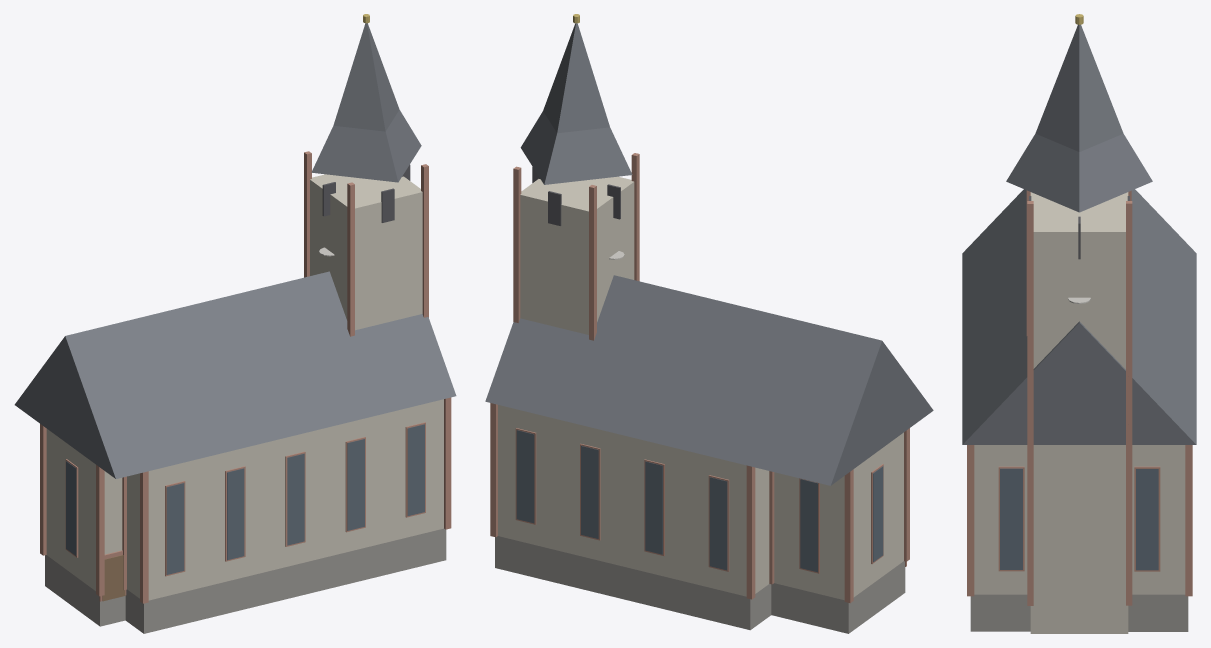
File: landmark-church-277927901.glb
3 views of the same model, side by side, from view 1: azimuth 30°, elevation 25°; view 2: azimuth 150°, elevation 25°; view 3: azimuth 270°, elevation 25° (orthographic). The views are drawn at different scales.
Parts seen in each view (by area): view 1: building; view 2: building; view 3: building.
Part boxes in pixels (x1=…): building: x1=14, y1=14, x2=456, y2=633; building: x1=485, y1=14, x2=933, y2=633; building: x1=962, y1=14, x2=1196, y2=633.
Size of the model in its own units: 28.92 by 40.18 by 14.27.
